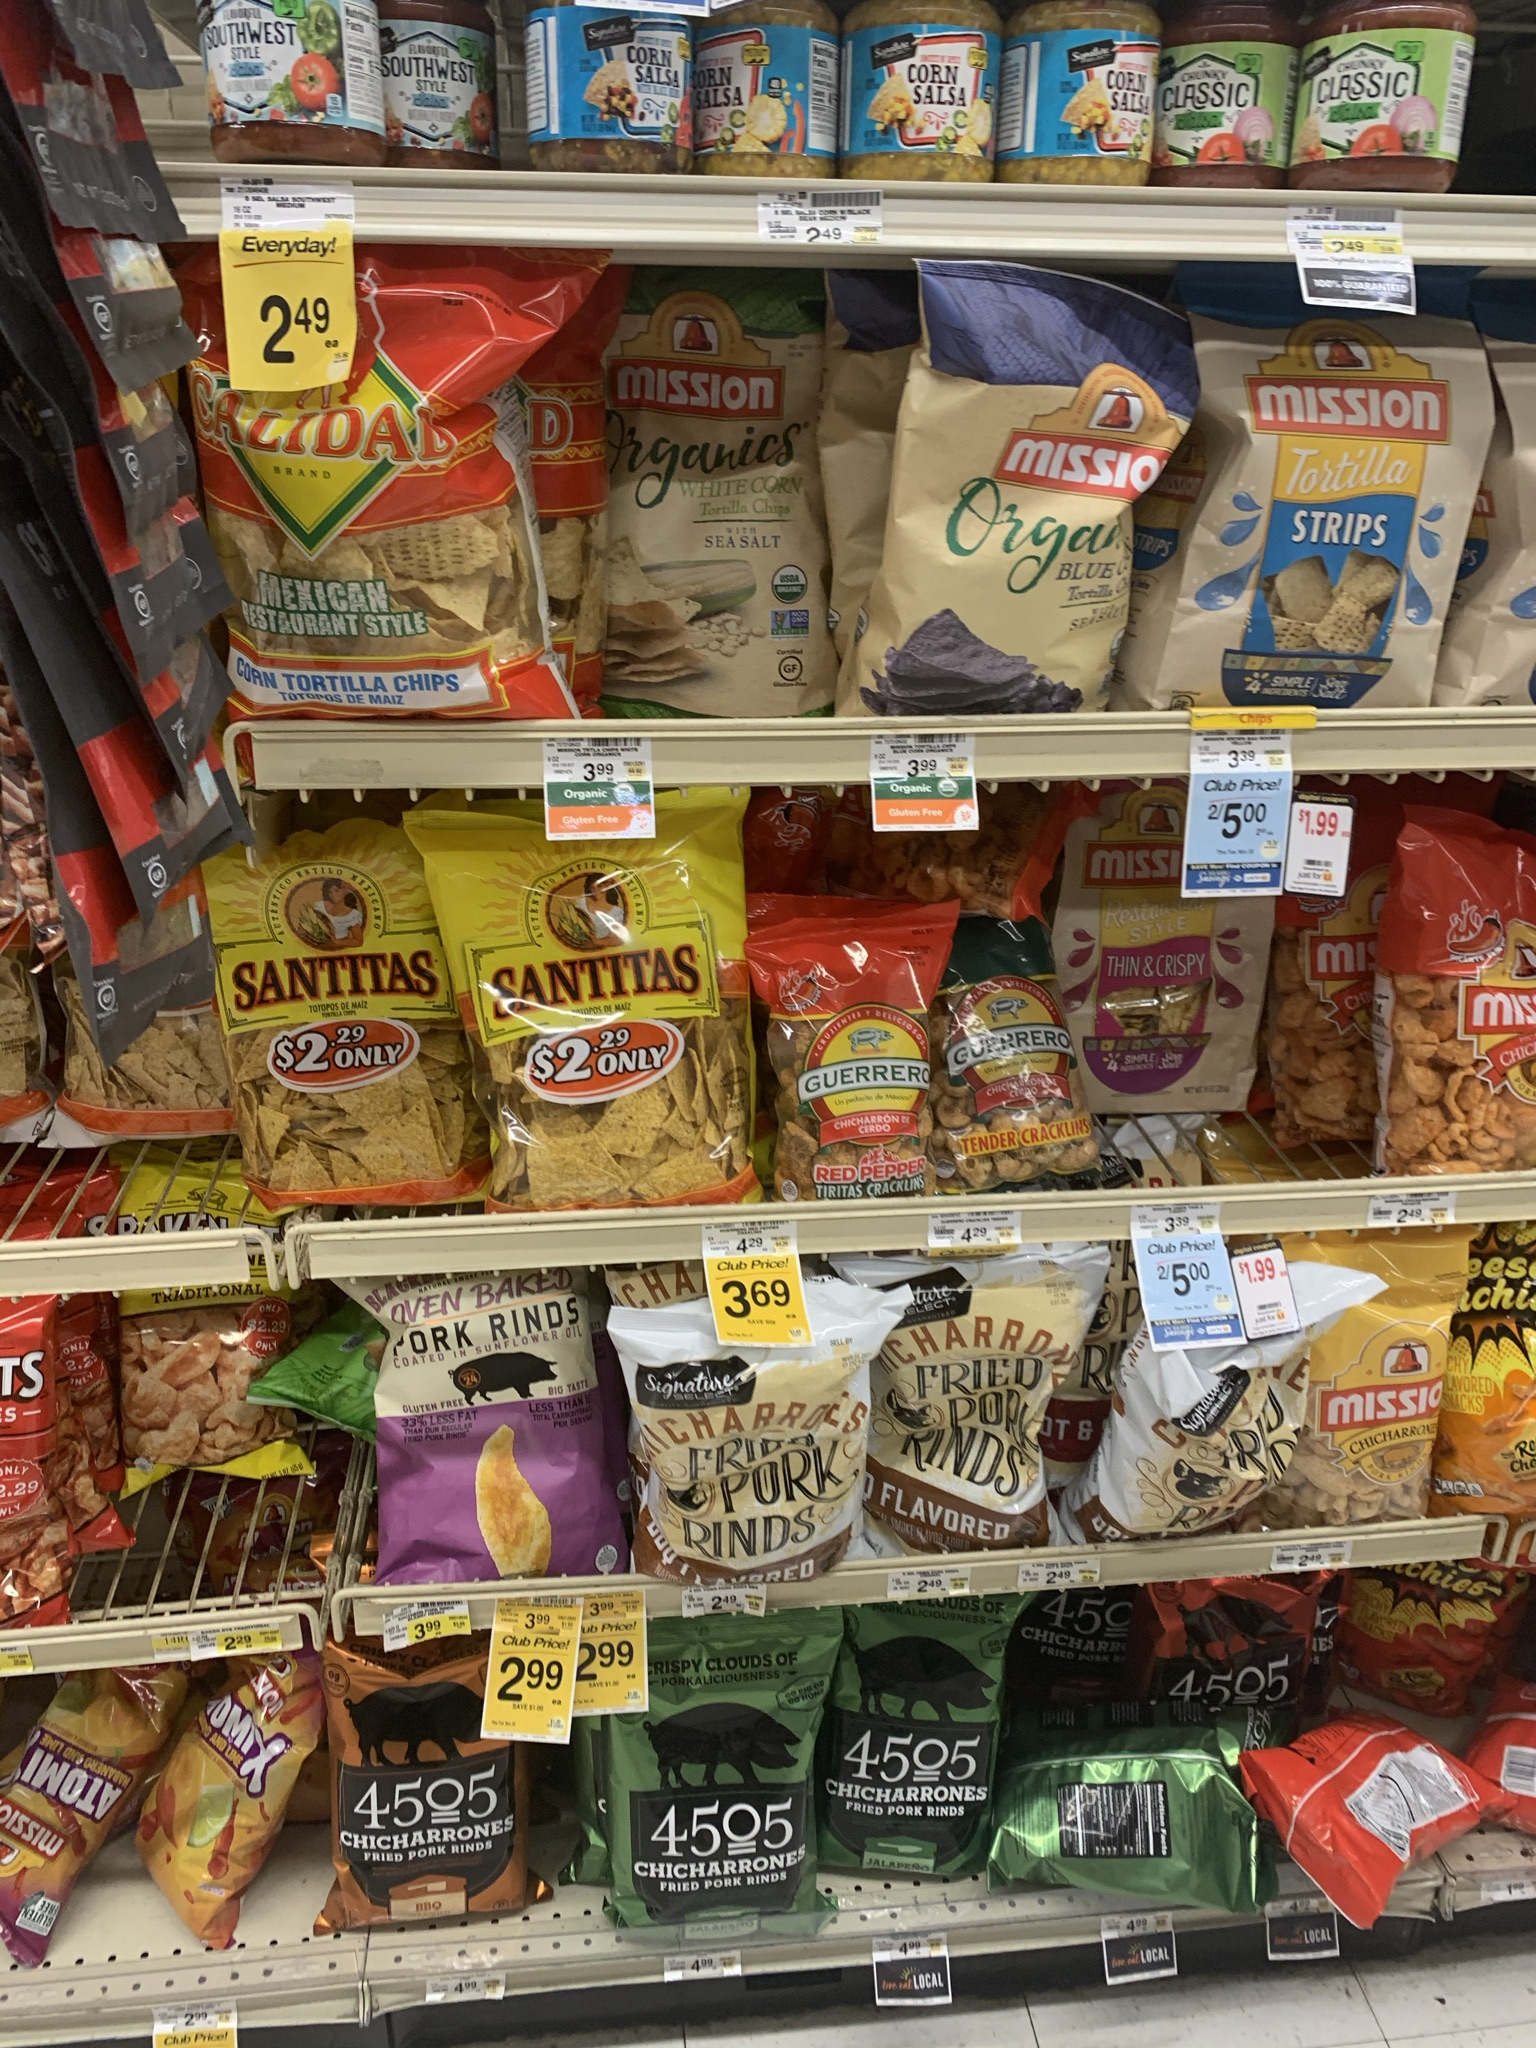chip: (1376, 832, 1536, 1164), (2, 1688, 182, 1940), (177, 1650, 286, 1942)
